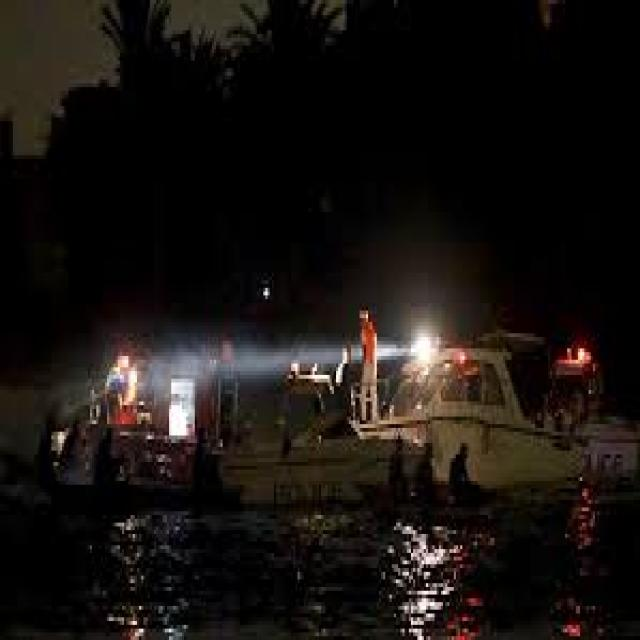Boat: (346, 336, 615, 490), (53, 322, 244, 492), (223, 366, 454, 498)
